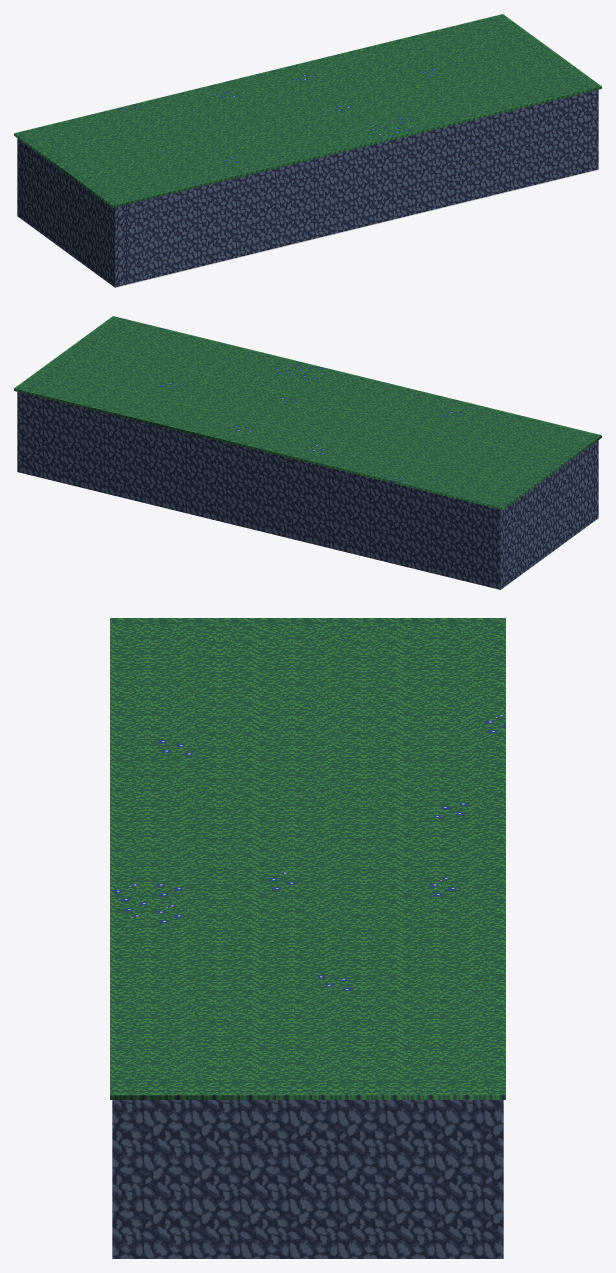
File: ChaoEd2.fbx
3 views of the same model, one above another, from view 1: azimuth 30°, elevation 25°; view 2: azimuth 150°, elevation 25°; view 3: azimuth 270°, elevation 25° (orthographic). The views are drawn at different scales.
Parts seen in each view (by area): view 1: Chao2; view 2: Chao2; view 3: Chao2.
Part boxes in pixels (<box>): Chao2: <box>14,14,601,287</box>; Chao2: <box>14,316,601,589</box>; Chao2: <box>110,618,505,1258</box>.
Bounding box in the file's own units: 9442 × 3314 × 1537.
